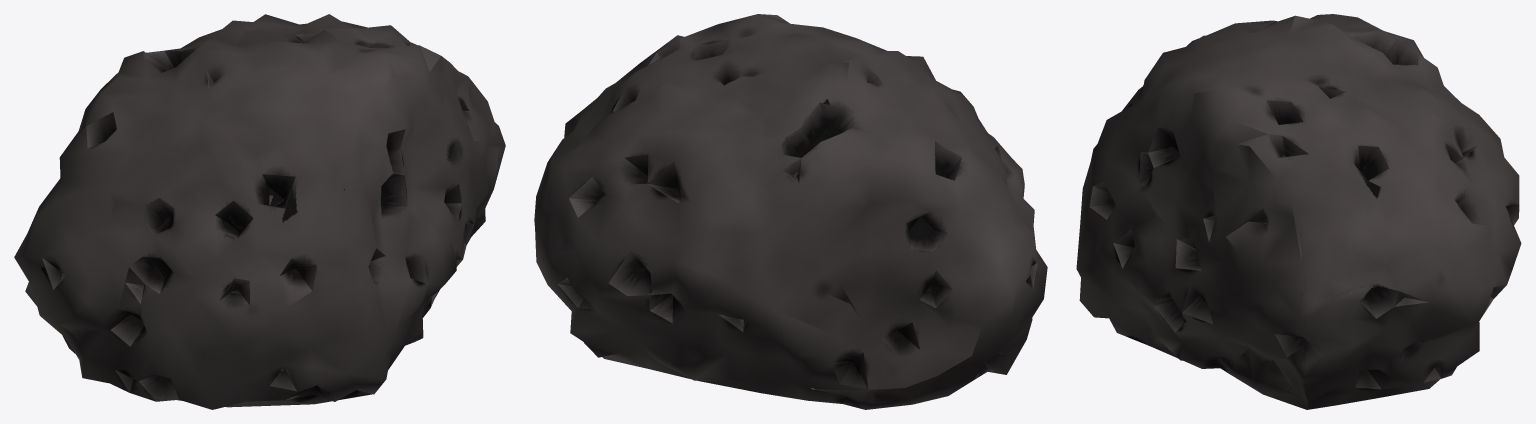
Rendered from roca_volcanica.fbx.
3 views of the same model, side by side, from view 1: azimuth 30°, elevation 25°; view 2: azimuth 150°, elevation 25°; view 3: azimuth 270°, elevation 25° (orthographic).
Parts seen in each view (by area): view 1: roca_volcanica; view 2: roca_volcanica; view 3: roca_volcanica.
Boxes of the visible parts, box(x1,y1,x2,y2) form: roca_volcanica: box(14, 14, 505, 409); roca_volcanica: box(534, 14, 1047, 409); roca_volcanica: box(1076, 14, 1521, 409).
Bounding box in the file's own units: 2.53 × 1.5 × 2.09.
Materials: 1 (1 with a texture image).
